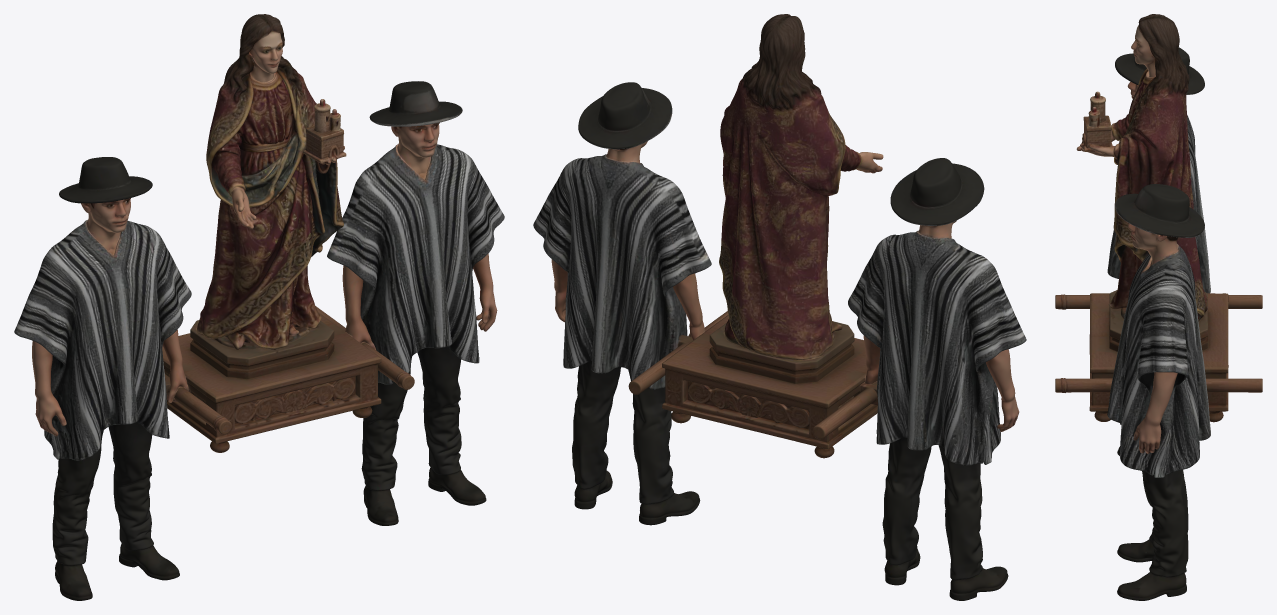
The model's file is 49-santa-bárbara-no-quería-irse-optimized.glb.
The picture shows the model from 3 angles, left to right: view 1: azimuth 30°, elevation 25°; view 2: azimuth 150°, elevation 25°; view 3: azimuth 270°, elevation 25°; orthographic projection. The views are drawn at different scales.
Visible parts, largest first — view 1: tripo_node_4c70732a-5338-4e92-b68f-281302a42b4e; view 2: tripo_node_4c70732a-5338-4e92-b68f-281302a42b4e; view 3: tripo_node_4c70732a-5338-4e92-b68f-281302a42b4e.
Boxes of the visible parts, x1,y1,x2,y2 form: tripo_node_4c70732a-5338-4e92-b68f-281302a42b4e: (14, 14, 504, 600); tripo_node_4c70732a-5338-4e92-b68f-281302a42b4e: (533, 14, 1026, 600); tripo_node_4c70732a-5338-4e92-b68f-281302a42b4e: (1055, 14, 1262, 600).
Bounding box in the file's own units: 0.974 × 1 × 0.3839.
Materials: 1 (1 with a texture image).
